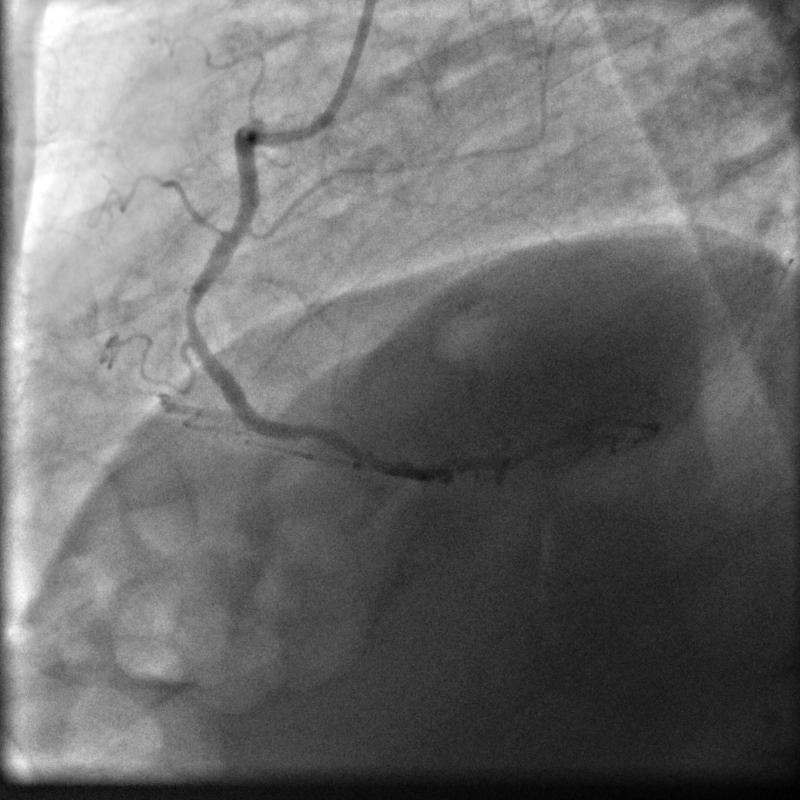Stenosis: (182, 292, 204, 327)
